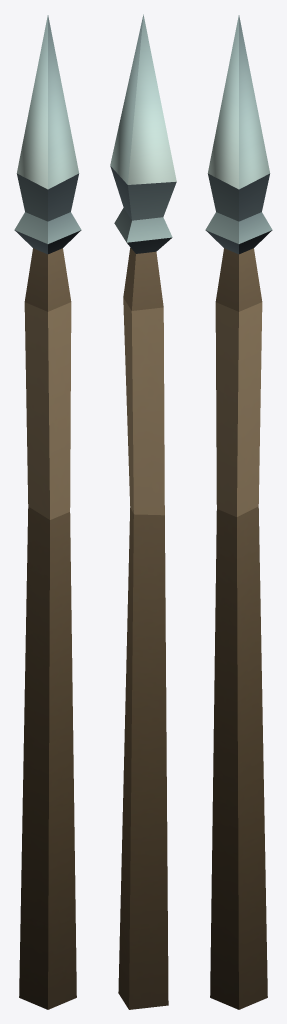
Rendered from spear.fbx.
3 renders of one model, left to right at view 1: azimuth 90°, elevation 25°; view 2: azimuth 150°, elevation 25°; view 3: azimuth 270°, elevation 25°, orthographic.
Visible parts, largest first — view 1: spear; view 2: spear; view 3: spear.
Part boxes in pixels (box(x1,y1,x2,y2)): spear: box(14, 15, 81, 1009); spear: box(110, 14, 176, 1009); spear: box(205, 15, 272, 1009).
Size of the model in its own units: 17.69 by 250 by 15.51.
